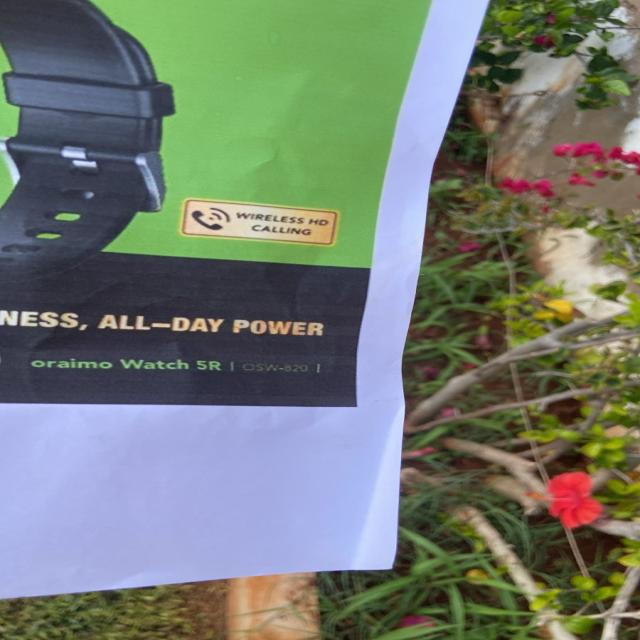Oraimo Watch 5R OSW-820: (18, 356, 336, 374)
